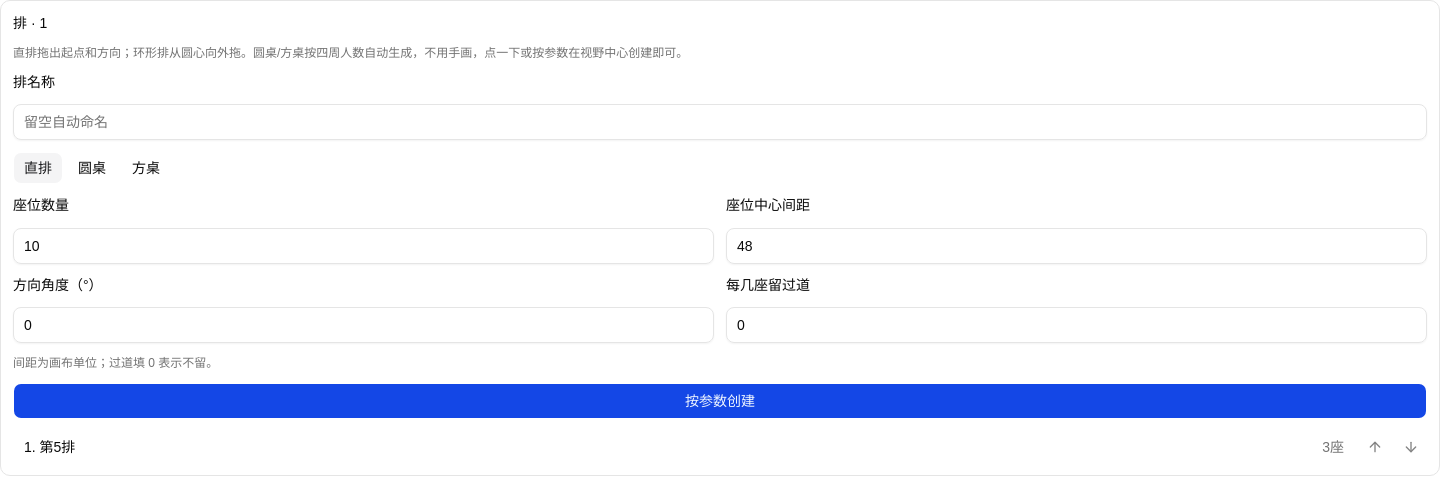
Test: 排参数面板 › 空值、非整数和非正间距不能创建
Clear the number field labelled "座位数量" at (364, 246), box [13,228,714,264]
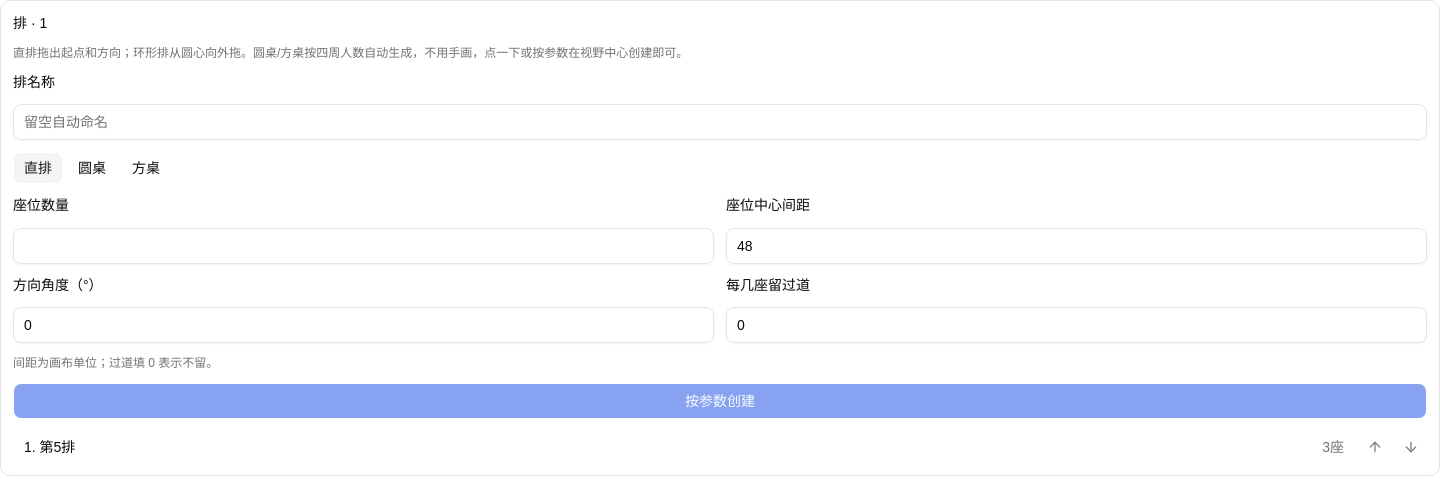
Expected: the button "按参数创建" is disabled, [13,383,1427,419]
Type "0" into the number field labelled "座位数量" at (364, 246), box [13,228,714,264]
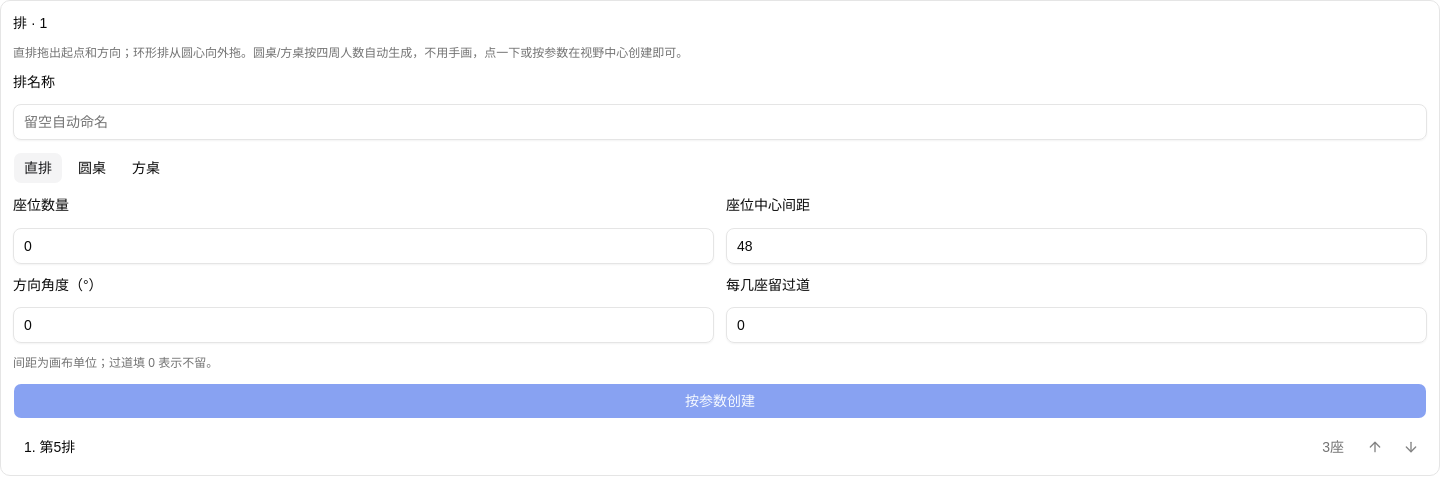
Expected: the button "按参数创建" is disabled, [13,383,1427,419]
Replace the text in the number field labelled "座位数量" with "1.5" at (364, 246), box [13,228,714,264]
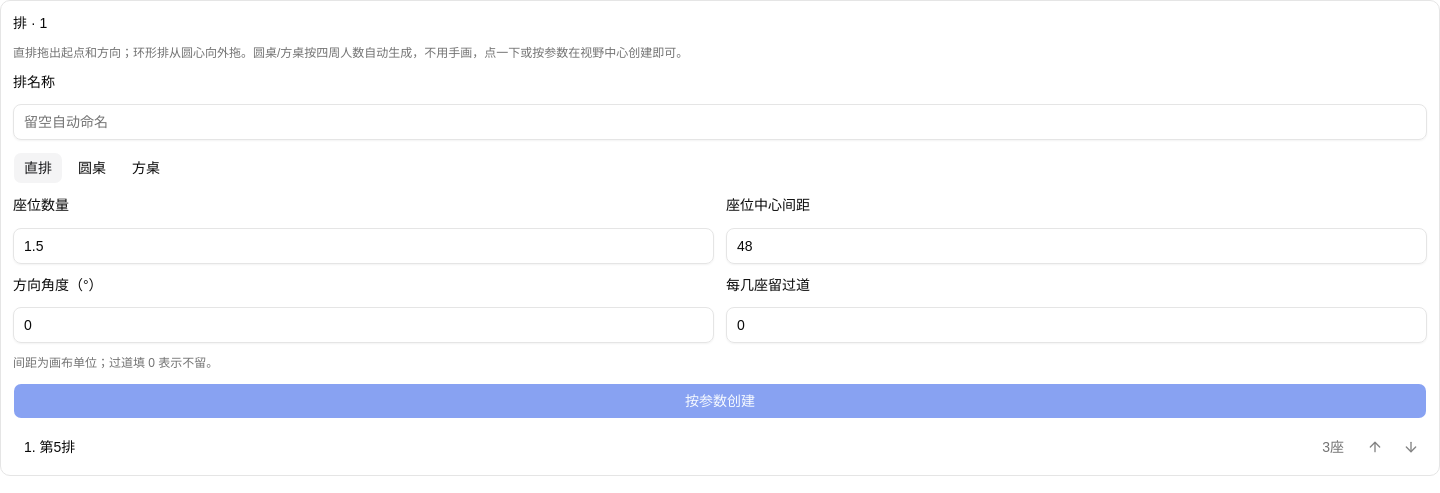
Expected: the button "按参数创建" is disabled, [13,383,1427,419]
Replace the text in the number field labelled "座位数量" with "5" at (364, 246), box [13,228,714,264]
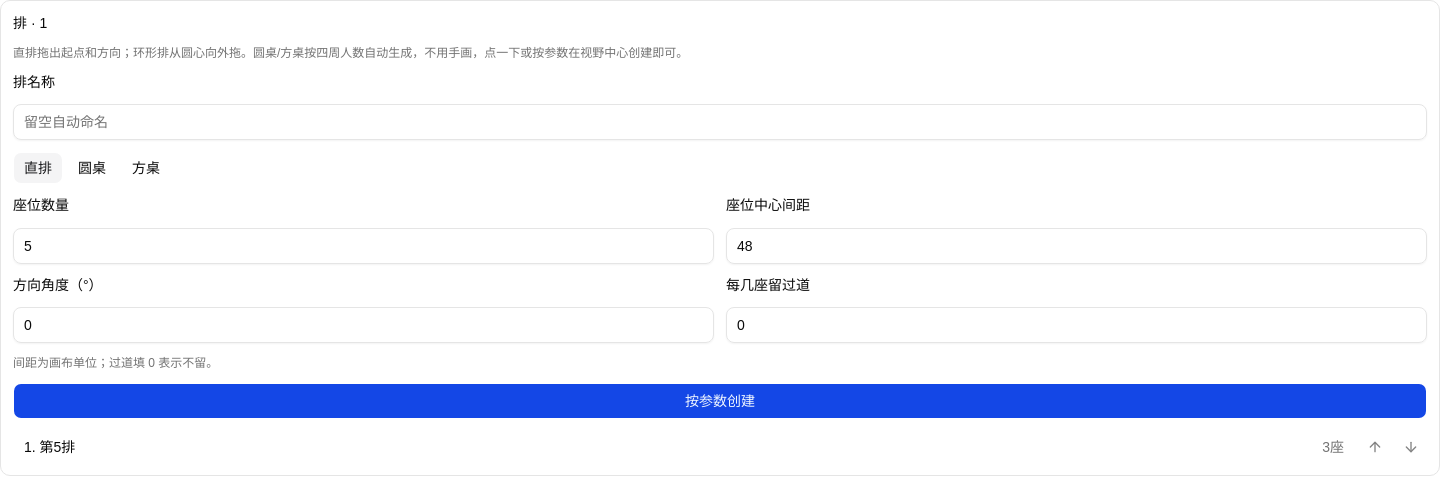
Expected: the button "按参数创建" is enabled, [13,383,1427,419]
Replace the text in the number field labelled "座位中心间距" with "-1" at (1076, 246), box [726,228,1427,264]
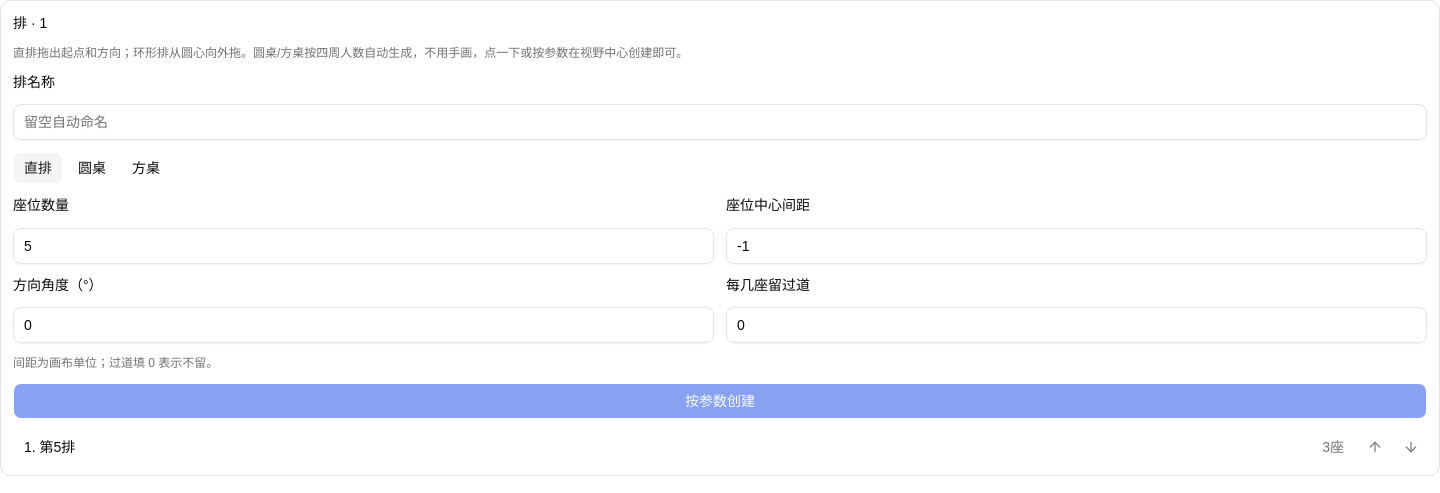
Expected: the button "按参数创建" is disabled, [13,383,1427,419]
